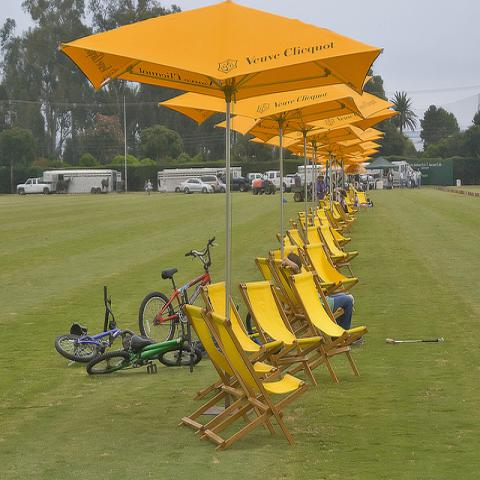bus: (45, 169, 114, 194), (164, 169, 224, 192)
car: (17, 178, 54, 194), (218, 173, 249, 192), (180, 178, 213, 194), (197, 175, 220, 192), (248, 172, 263, 183), (218, 179, 226, 192), (369, 175, 374, 190)
truck: (260, 170, 292, 194), (16, 178, 54, 196), (219, 174, 252, 192), (197, 176, 220, 192)
